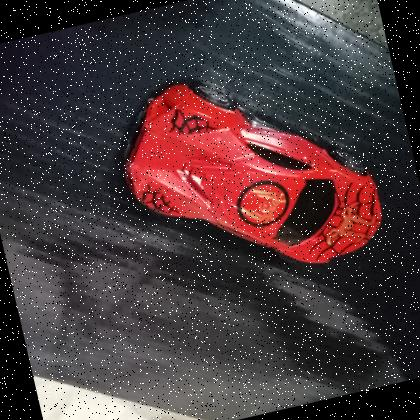Car: (98, 36, 398, 310)
